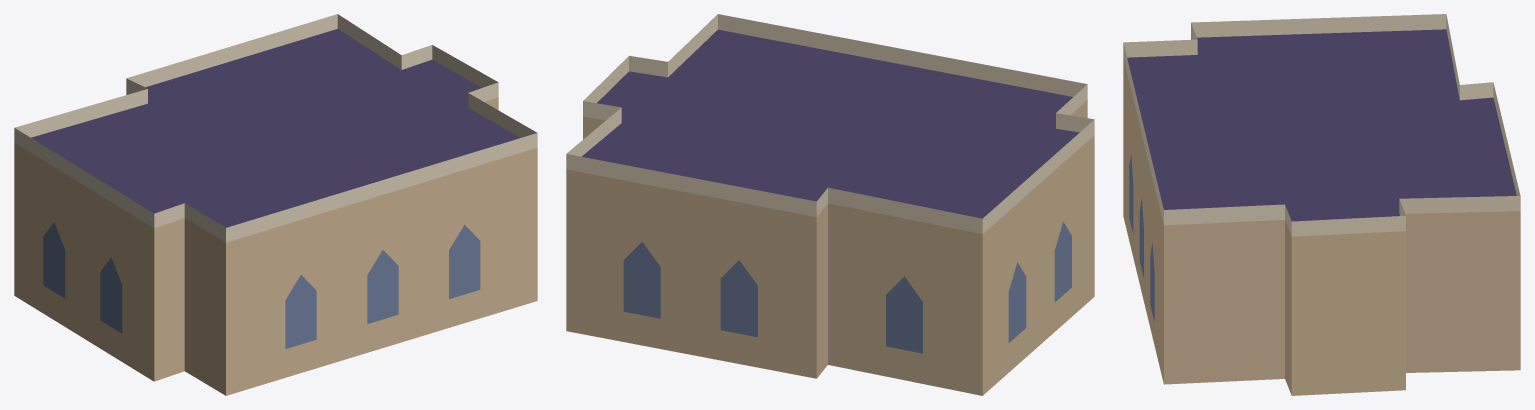
The model's file is b-111-day.glb.
3 renders of one model, left to right at view 1: azimuth 30°, elevation 25°; view 2: azimuth 150°, elevation 25°; view 3: azimuth 270°, elevation 25°, orthographic. The views are drawn at different scales.
Visible parts, largest first — view 1: campus/b-111-day-0; view 2: campus/b-111-day-0; view 3: campus/b-111-day-0.
Boxes of the visible parts, x1=… form: campus/b-111-day-0: x1=14, y1=14, x2=537, y2=395; campus/b-111-day-0: x1=566, y1=14, x2=1094, y2=395; campus/b-111-day-0: x1=1123, y1=14, x2=1520, y2=395.
Size of the model in its own units: 15.94 by 6.25 by 12.89.
